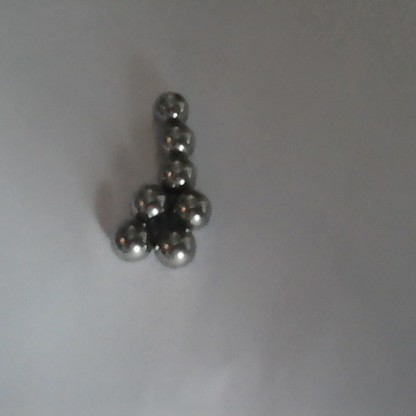ironball: (111, 215, 155, 261), (129, 181, 174, 225), (167, 187, 214, 229), (151, 228, 196, 271), (149, 85, 192, 126), (157, 120, 193, 159), (157, 159, 197, 193)
